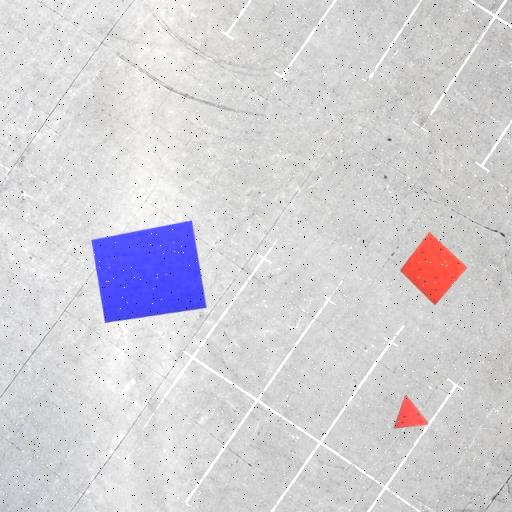BLUE_SQUARE: (91, 219, 207, 323)
RED_SQUARE: (399, 232, 467, 306)
